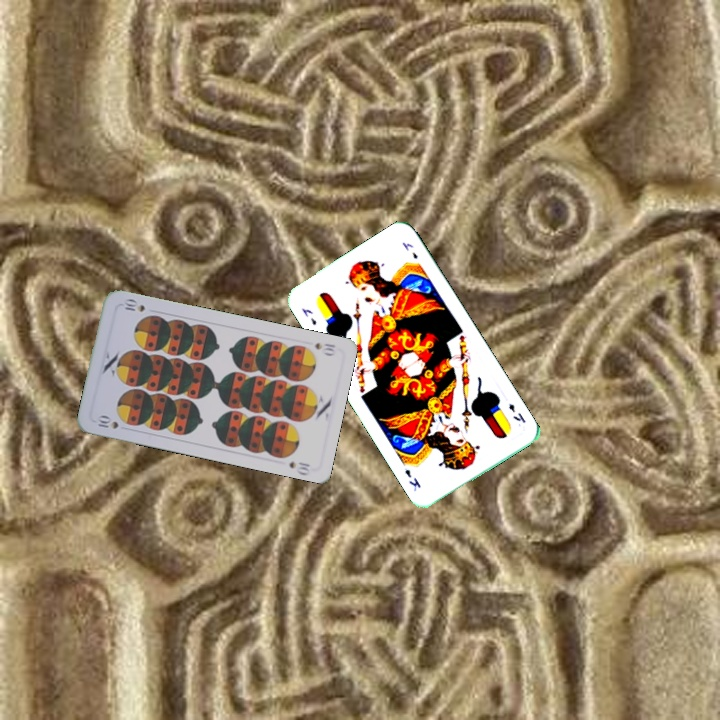EK: (504, 399, 528, 426), (298, 304, 319, 328)
S10: (94, 412, 121, 432), (310, 339, 338, 358)
